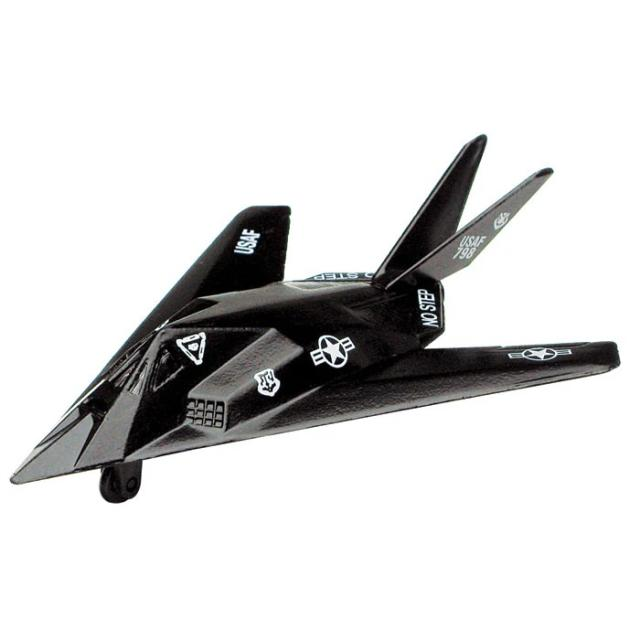F117: (0, 96, 640, 510)
